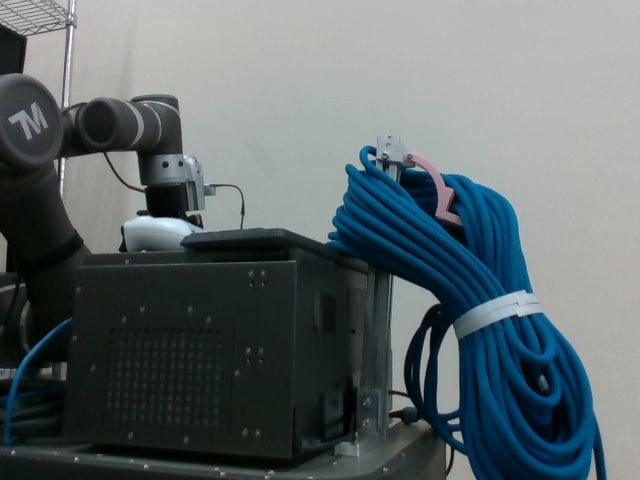rope: (321, 147, 606, 480)
